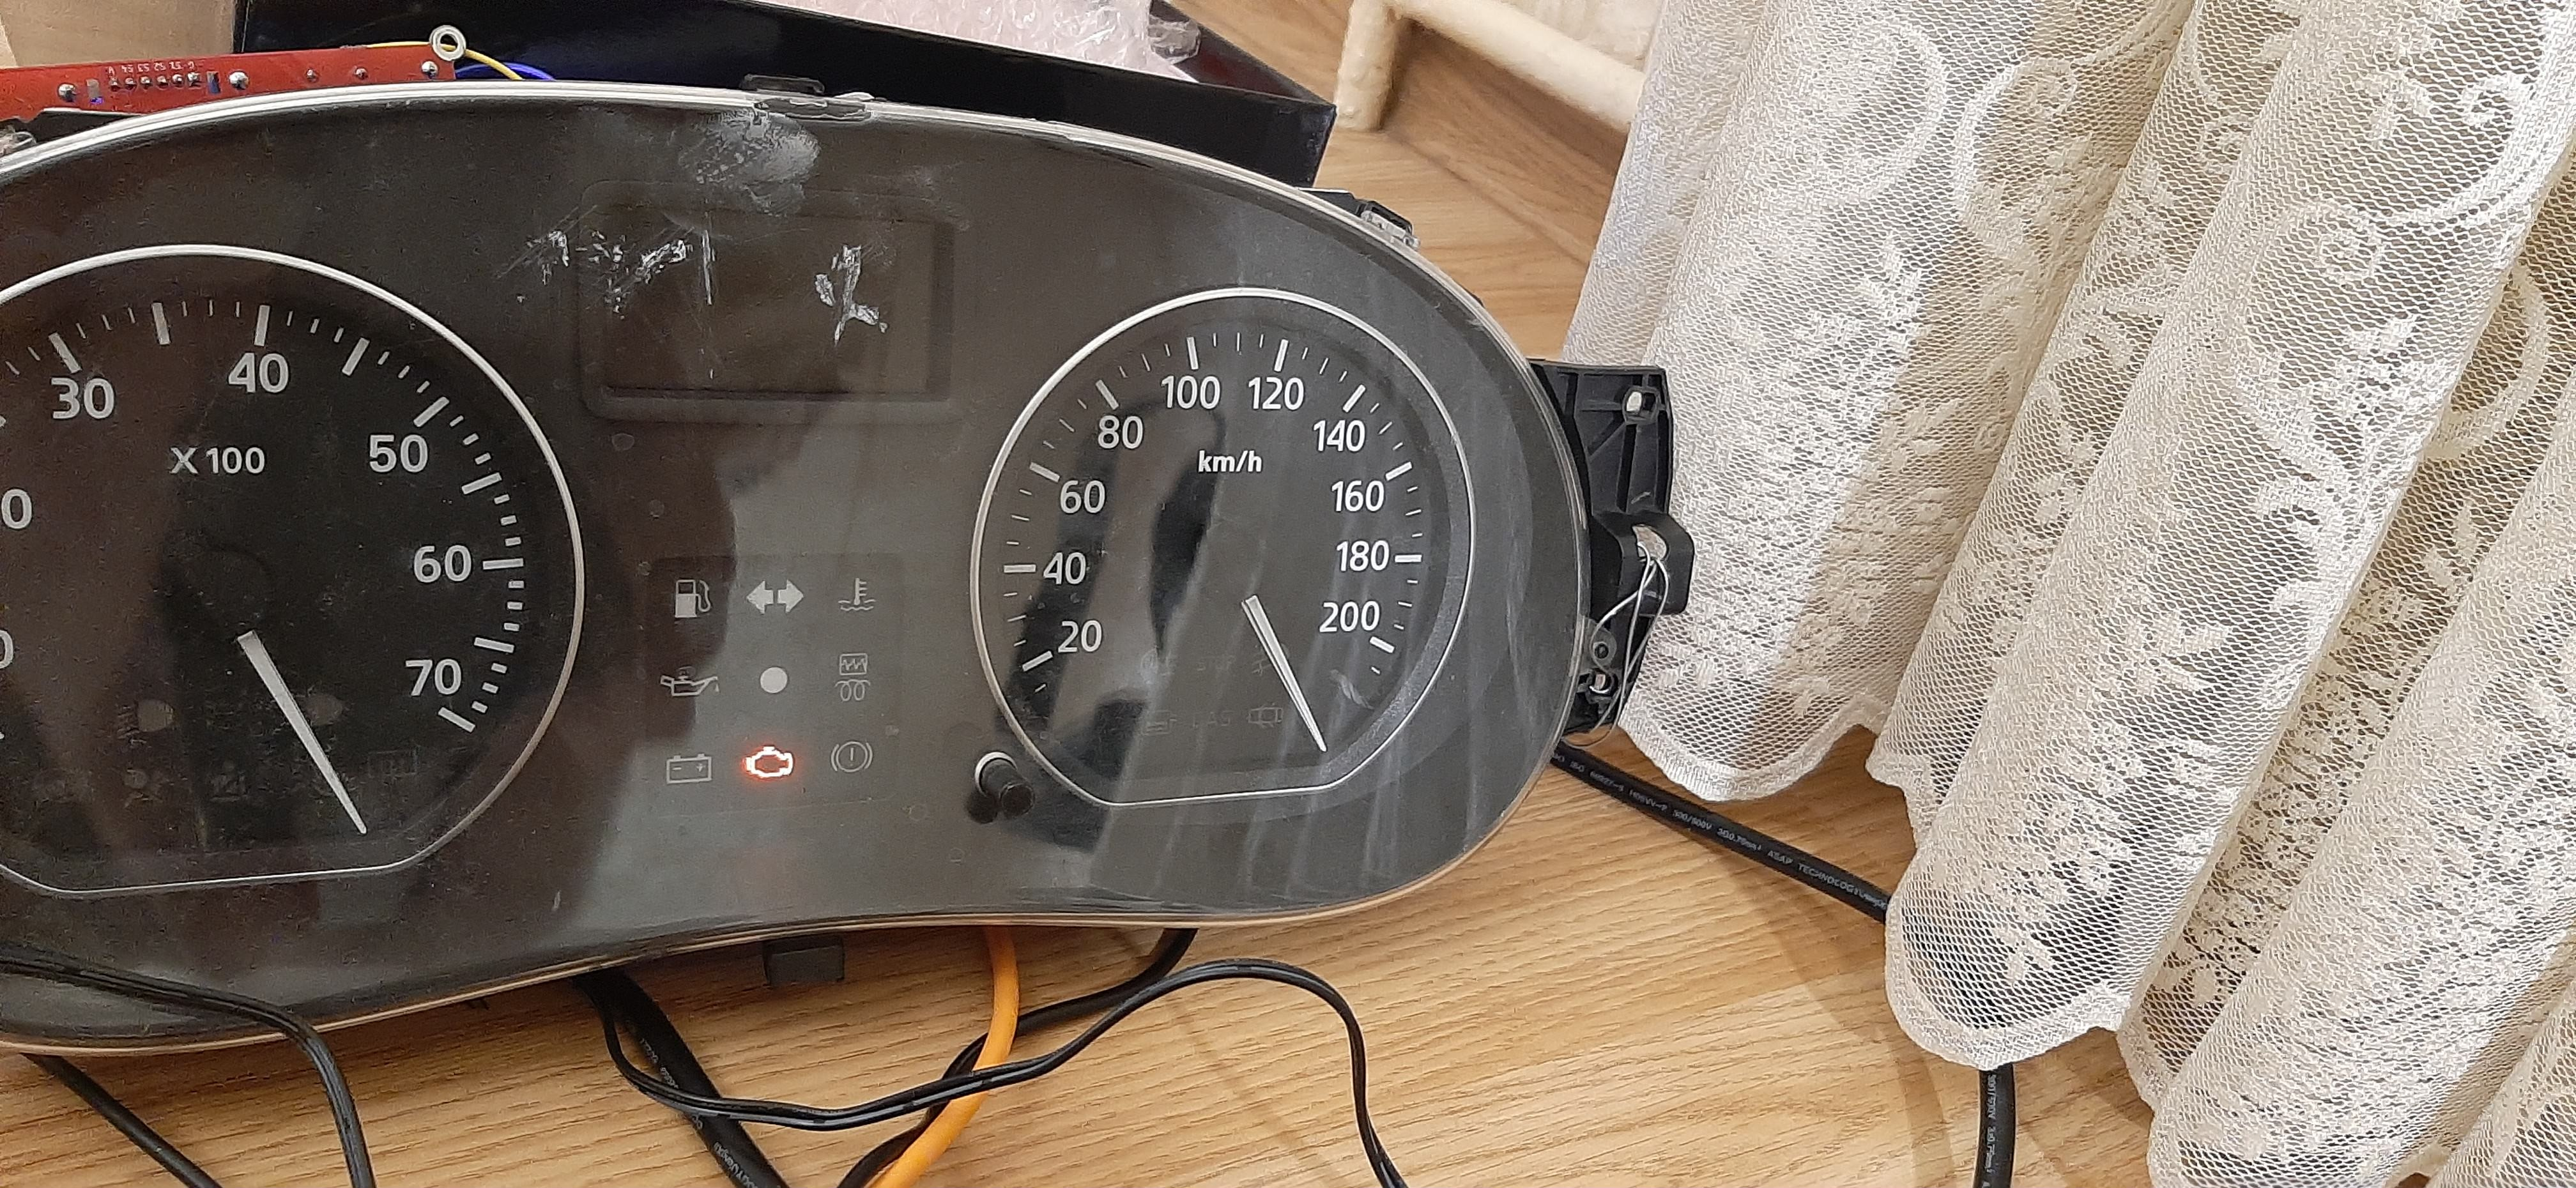engine17: (743, 743, 795, 780)
